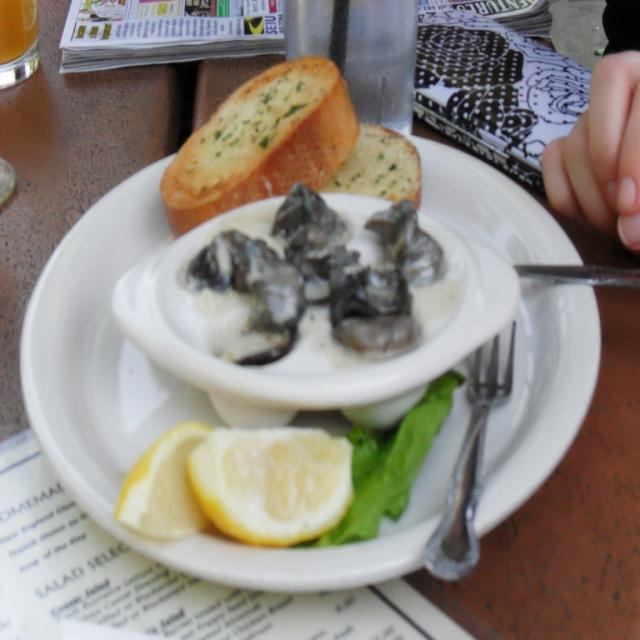Lemon: (189, 426, 354, 548), (113, 422, 210, 540)
